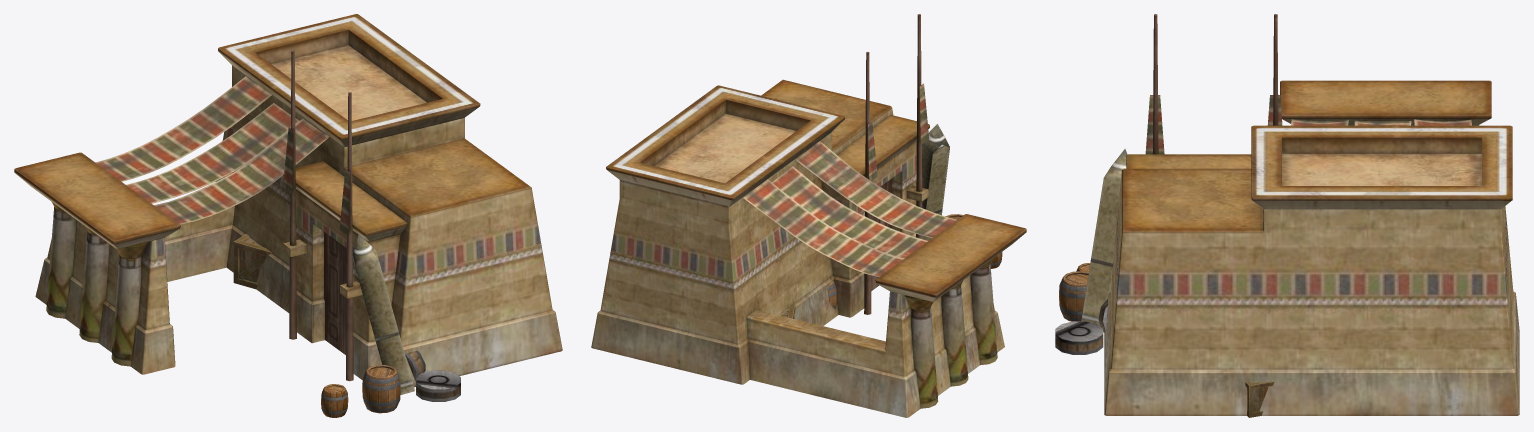
File: 62-siegeworks.glb
3 views of the same model, side by side, from view 1: azimuth 30°, elevation 25°; view 2: azimuth 150°, elevation 25°; view 3: azimuth 270°, elevation 25° (orthographic). The views are drawn at different scales.
Bounding box in the file's own units: 9.43 × 7.06 × 9.65.
6 materials, 6 textured.
